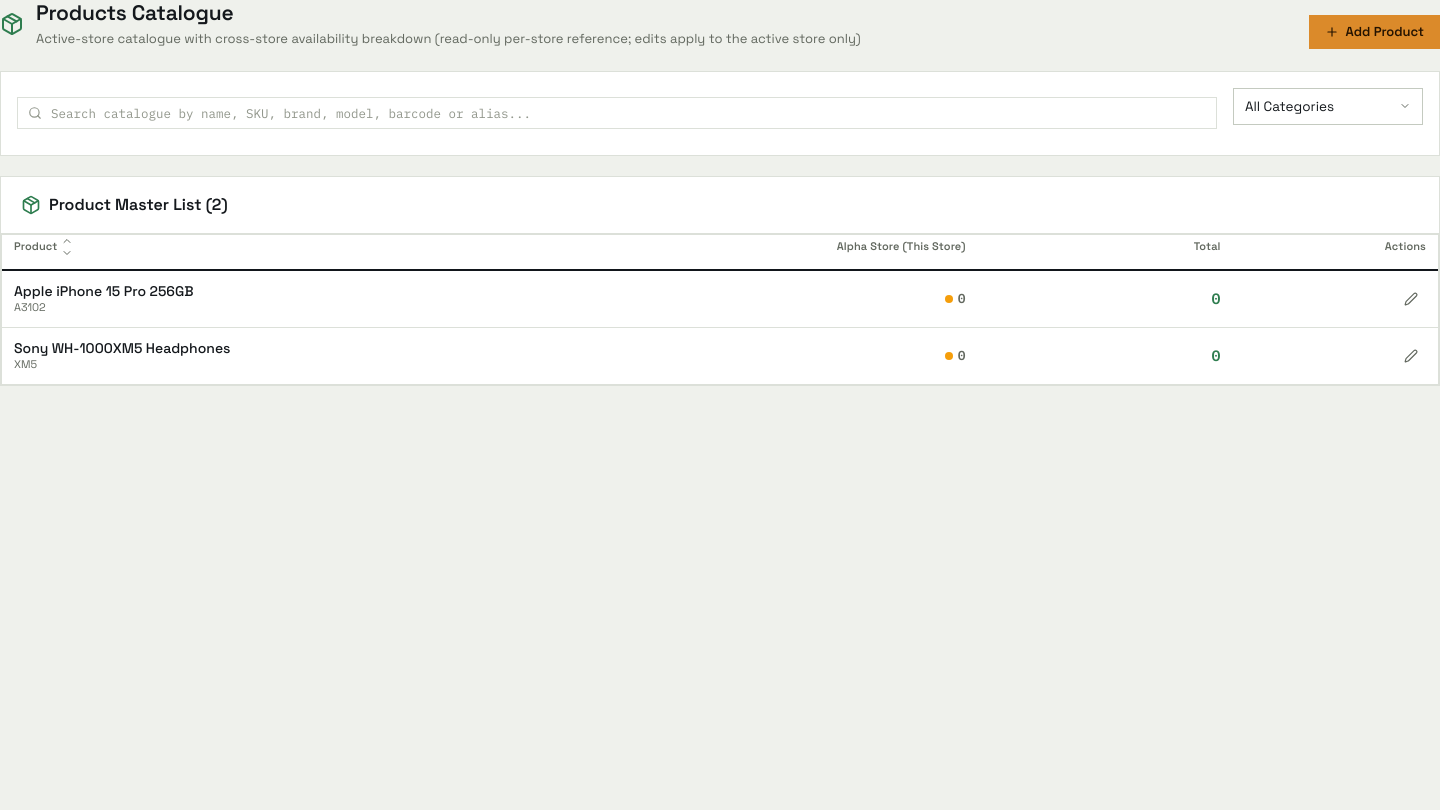
Test: Product CRUD & Master Catalog (FR-PROD-001–002) › rejects creating a product with duplicate SKU
Expected: the element with test id "products-table" is shown, [1,234,1439,385]
Click the button with test id "add-product-btn": (1374, 32) [1308,15,1439,49]
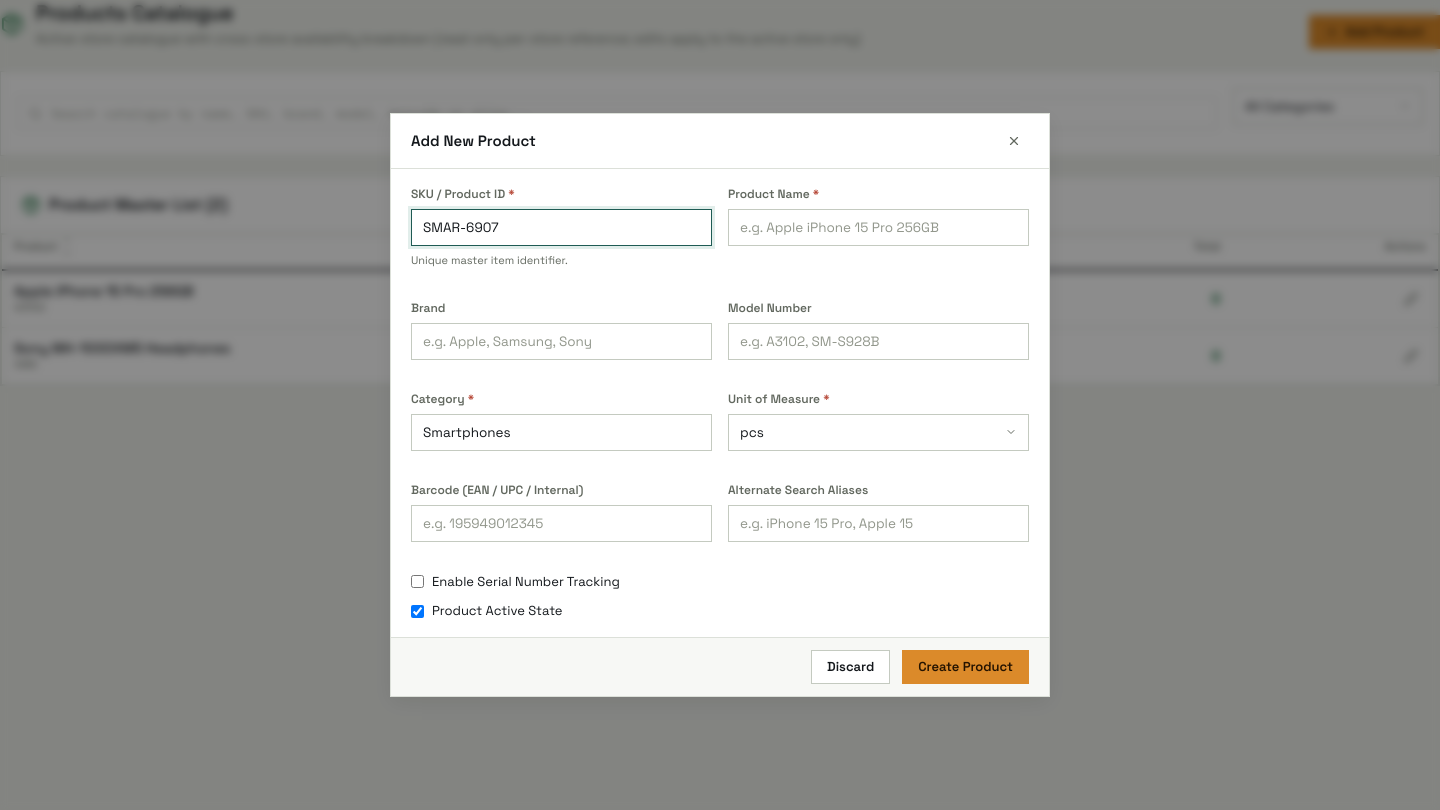
Replace the text in the field with test id "product-sku-input" with "ELEC-IPHONE15PRO": (562, 228) [411,209,712,246]
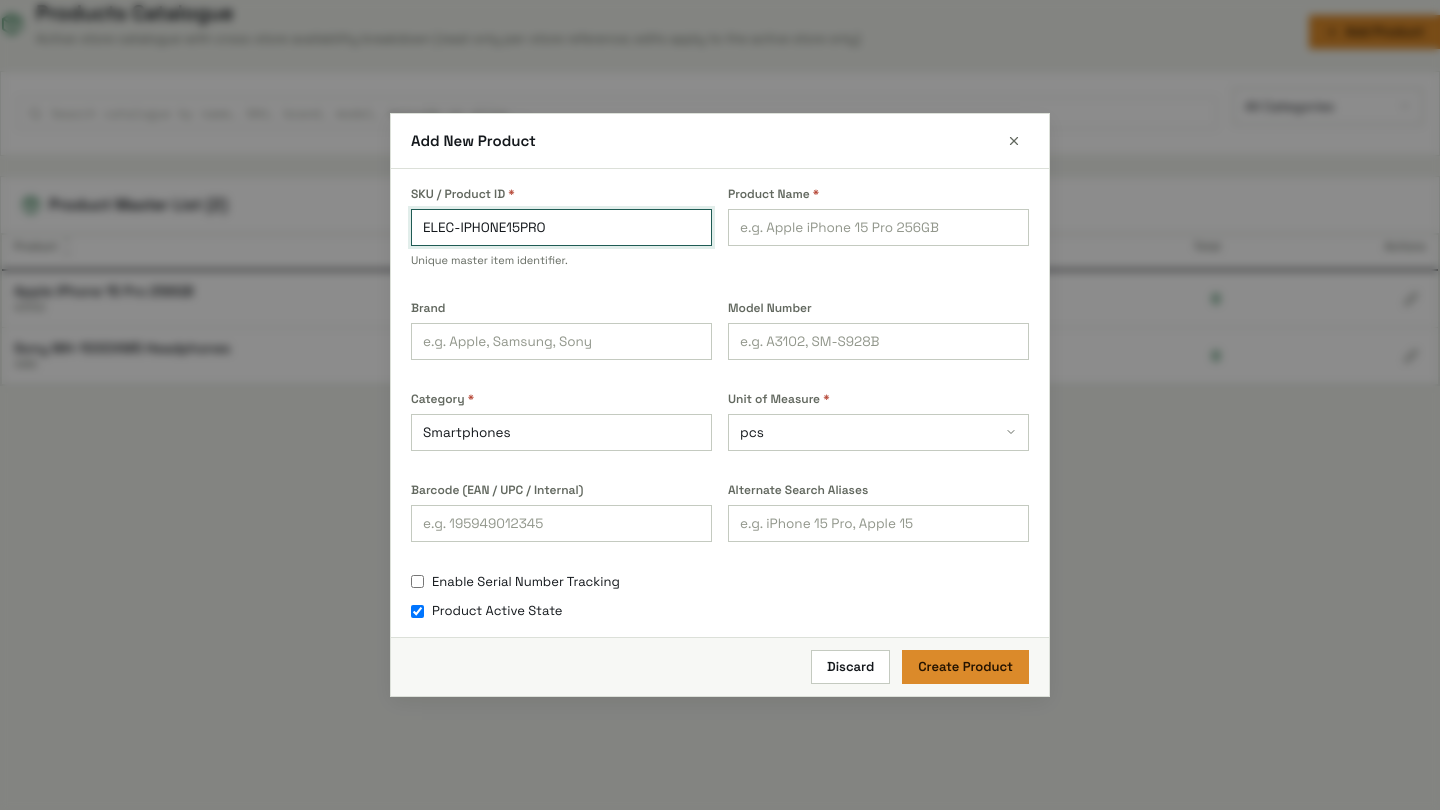
In the field with test id "product-name-input": (878, 228) [728,209,1029,246], type "Duplicate iPhone"
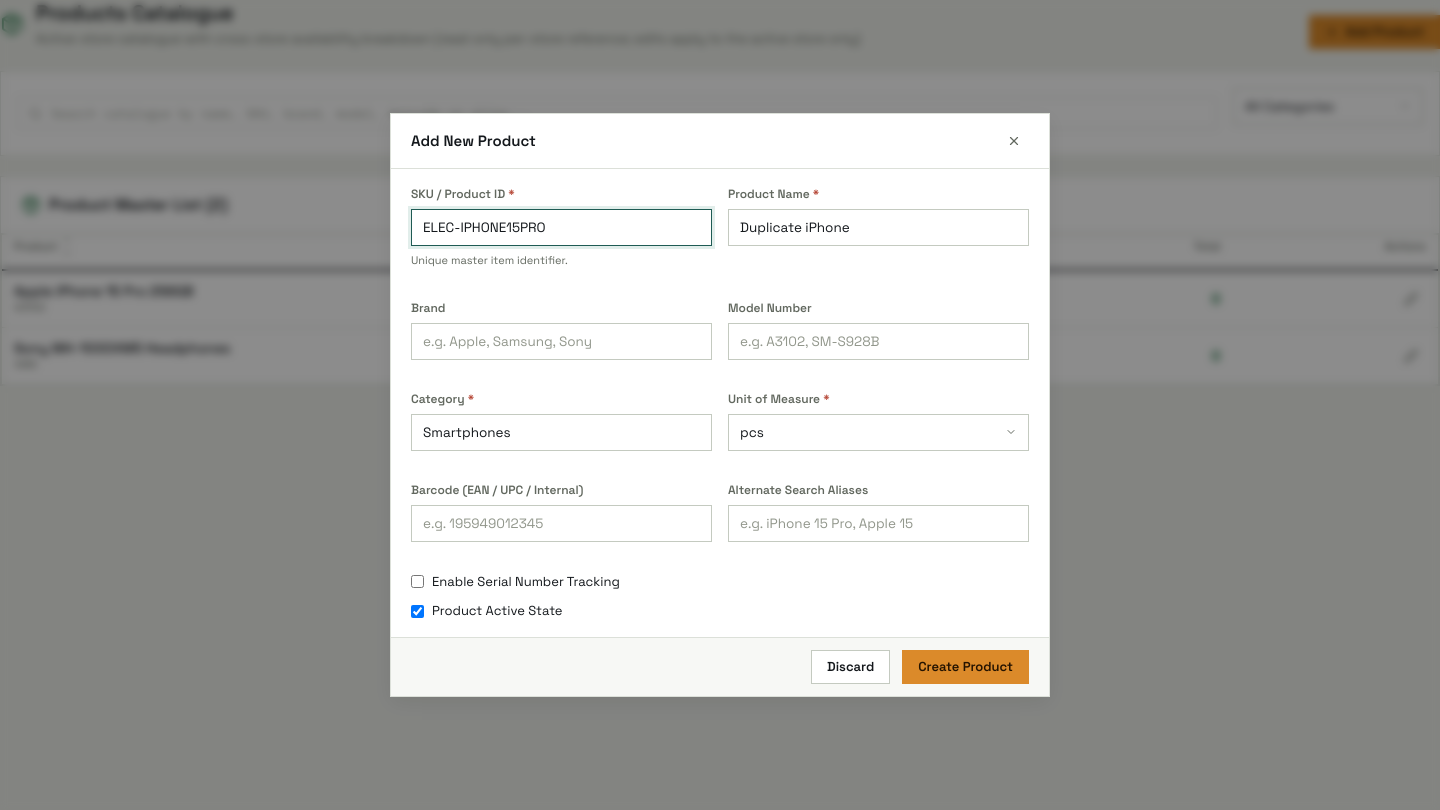
Click the button with test id "product-modal-submit": (966, 667) [902,650,1029,684]
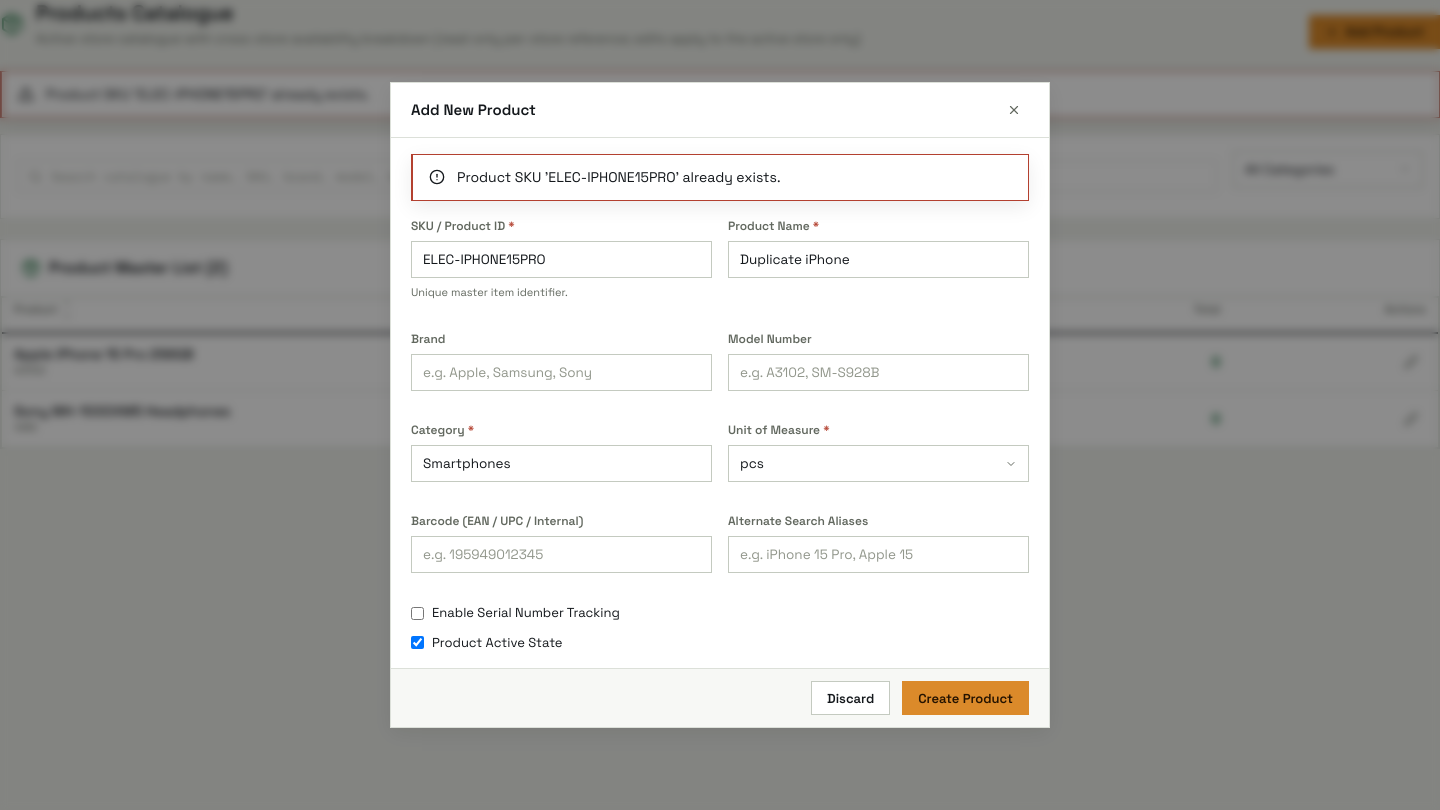
Expected: the element with test id "product-modal-error" reads "Product SKU 'ELEC-IPHONE15PRO' already exists.", [457,168,780,186]
